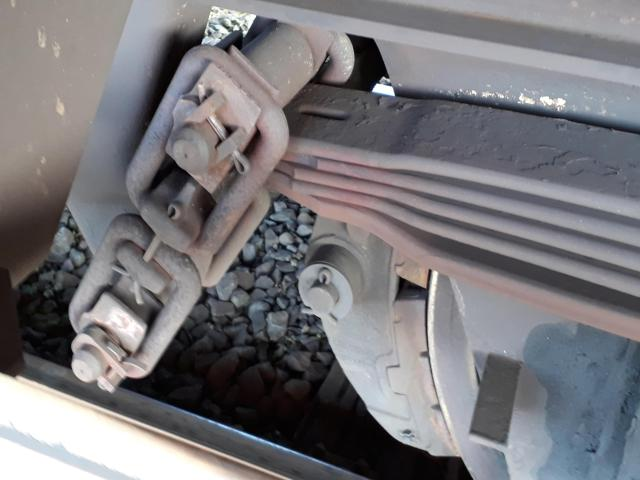blattfederww: (213, 46, 640, 314)
